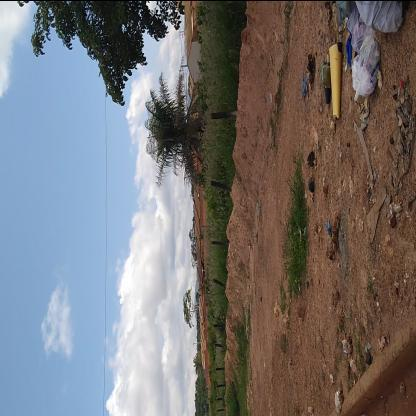lixo: (322, 0, 404, 124)
